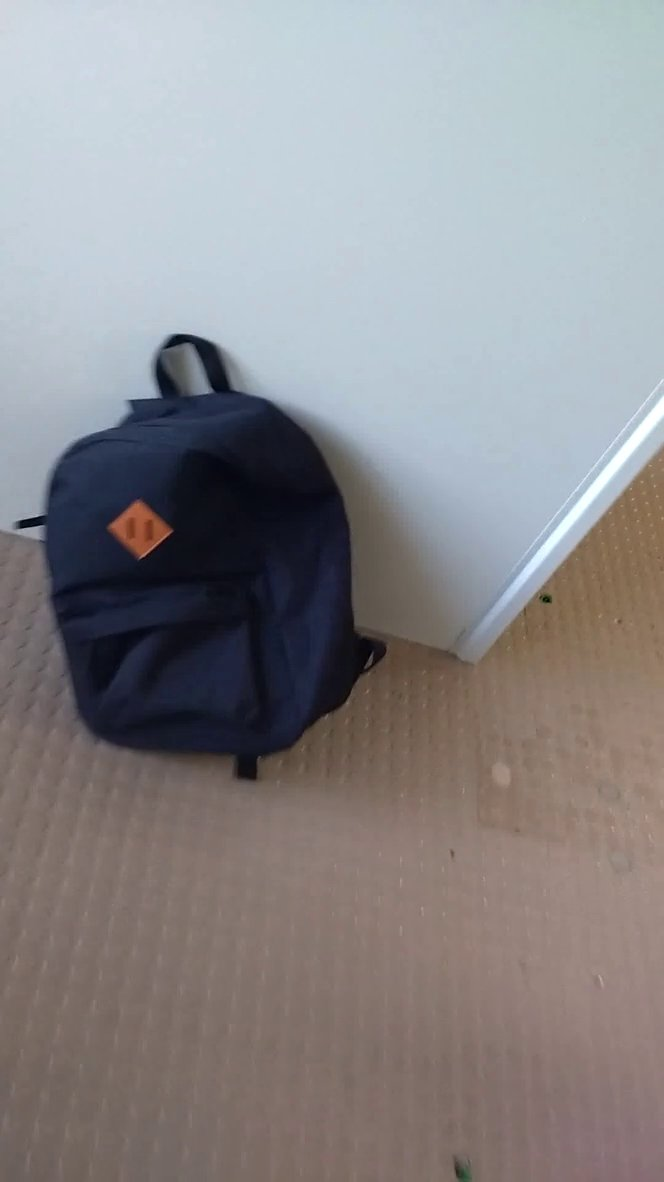bag: (8, 307, 412, 796)
